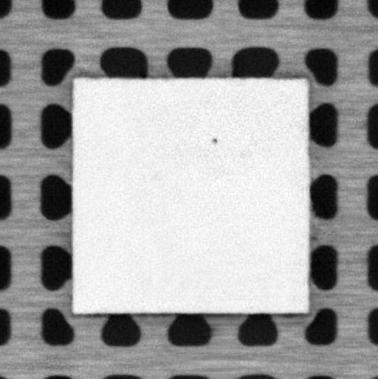DIE_INK: (209, 135, 219, 144)
